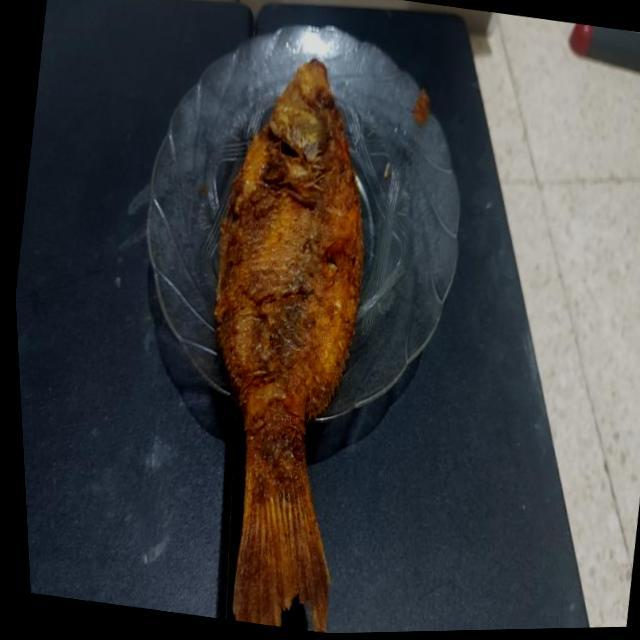ikan_mujair: (215, 60, 364, 632)
